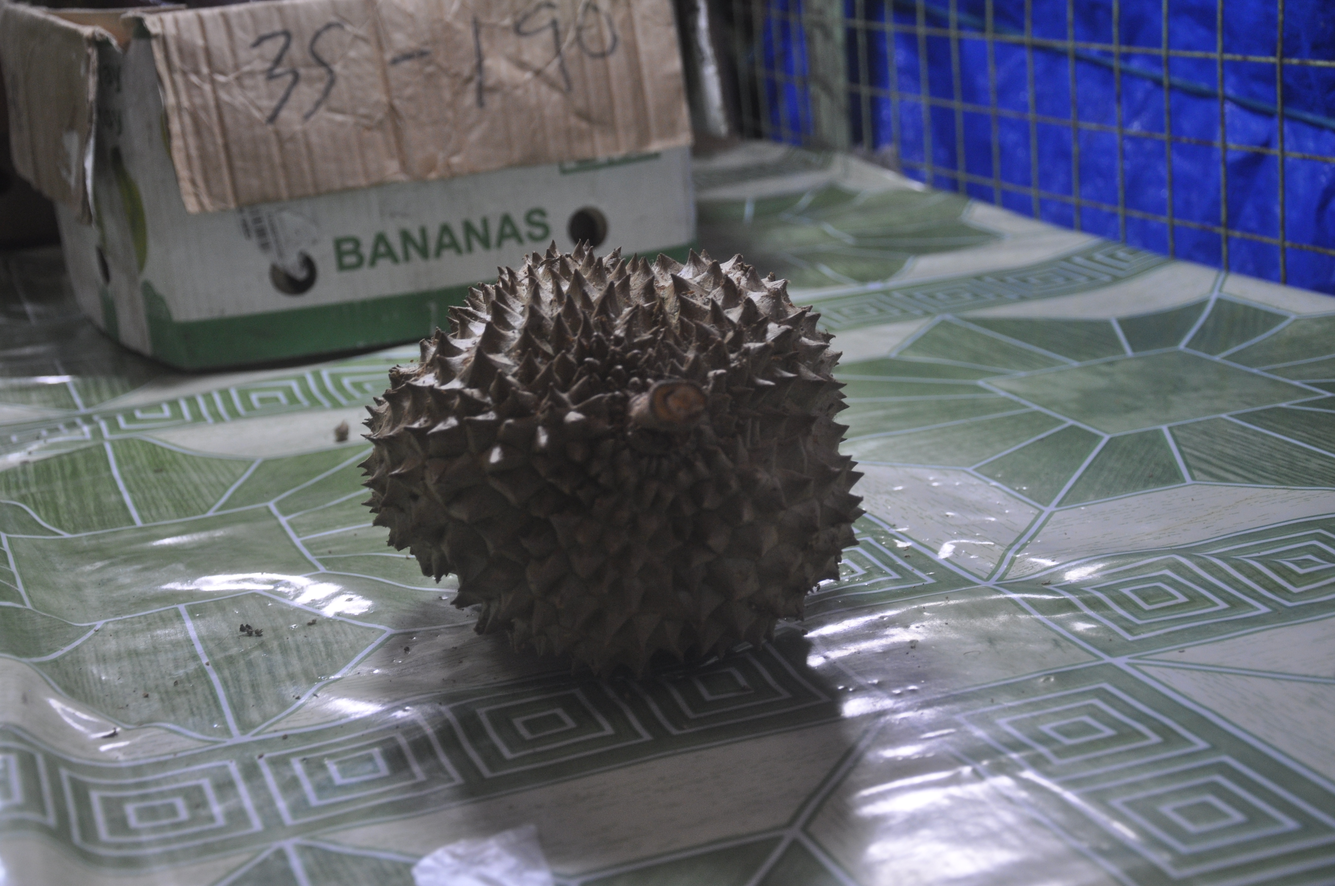mature: (361, 244, 863, 676)
